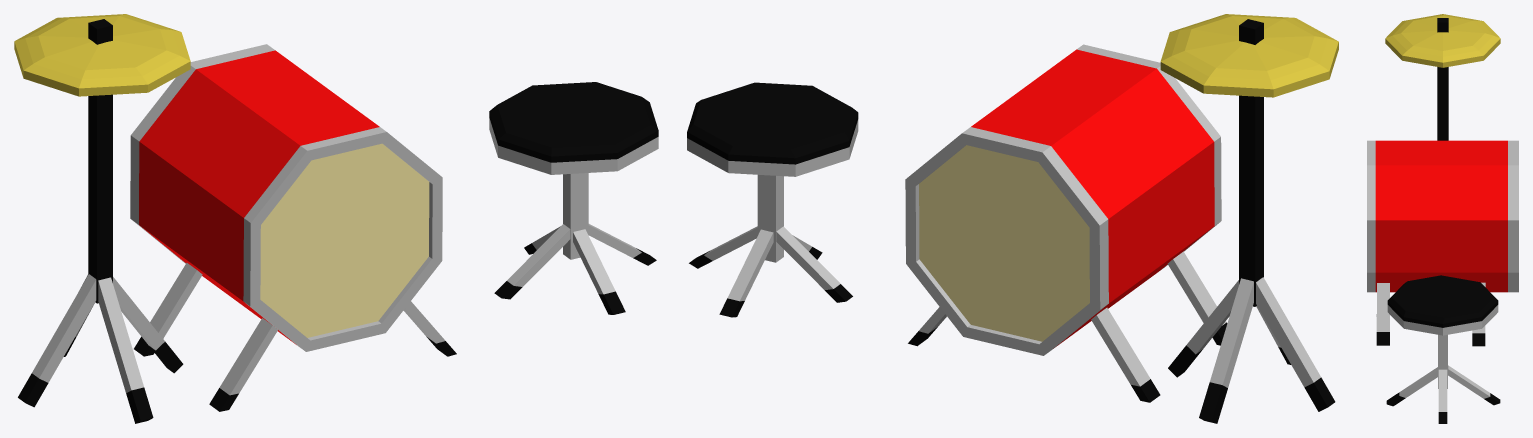
The model's file is drum.fbx.
3 views of the same model, side by side, from view 1: azimuth 30°, elevation 25°; view 2: azimuth 150°, elevation 25°; view 3: azimuth 270°, elevation 25° (orthographic). The views are drawn at different scales.
Visible parts, largest first — view 1: Bumbum, Prato, Banquinho; view 2: Bumbum, Prato, Banquinho; view 3: Bumbum, Banquinho, Prato.
Part boxes in pixels (x1=…): Bumbum: x1=130, y1=44, x2=456, y2=411; Prato: x1=14, y1=14, x2=190, y2=423; Banquinho: x1=489, y1=82, x2=658, y2=314; Bumbum: x1=905, y1=44, x2=1227, y2=402; Prato: x1=1160, y1=14, x2=1338, y2=423; Banquinho: x1=687, y1=82, x2=858, y2=317; Bumbum: x1=1367, y1=140, x2=1518, y2=346; Banquinho: x1=1386, y1=275, x2=1500, y2=423; Prato: x1=1385, y1=14, x2=1500, y2=140.
Bounding box in the file's own units: 209 × 119 × 68.64.
